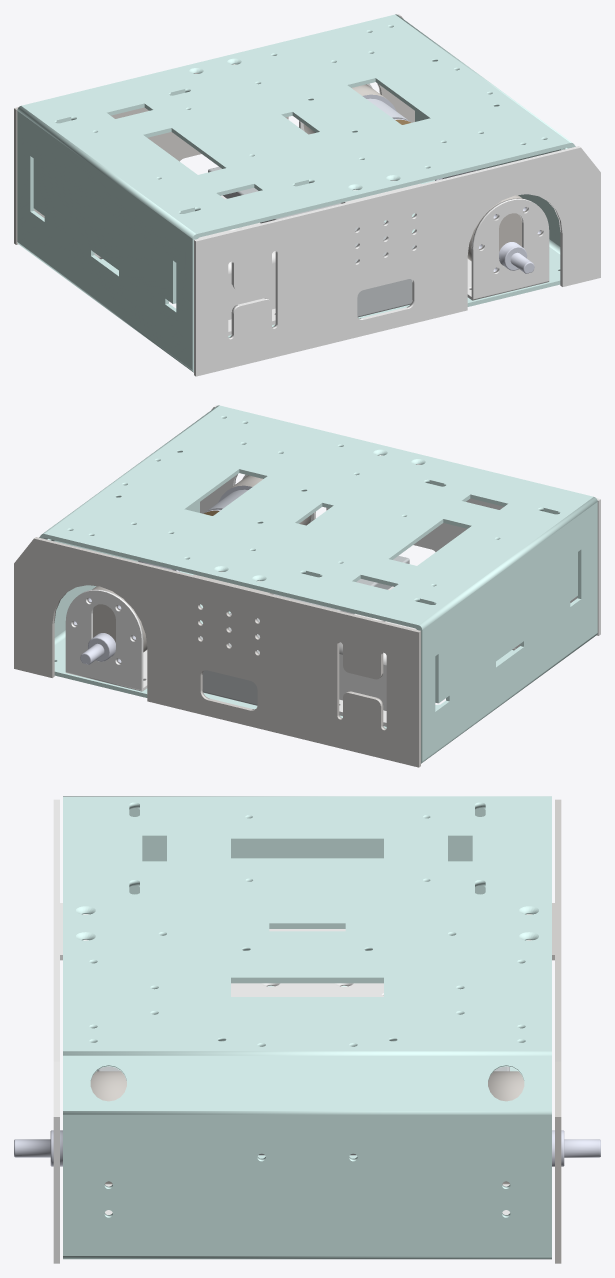
3 views of the same model, one above another, from view 1: azimuth 30°, elevation 25°; view 2: azimuth 150°, elevation 25°; view 3: azimuth 270°, elevation 25° (orthographic). The views are drawn at different scales.
Visible parts, largest first — view 1: stitch_result_stitchFBXASC032all_ncl1_5, stitch_result_stitchFBXASC032all_ncl1_3, stitch_result_stitchFBXASC032all_ncl1_9, stitch_result_stitchFBXASC032all_ncl1_4, stitch_result_stitchFBXASC032all, stitch_result_stitchFBXASC032all_ncl1_2, stitch_result_stitchFBXASC032all_ncl1_1, stitch_result_stitchFBXASC032all_ncl1_7; view 2: stitch_result_stitchFBXASC032all_ncl1_5, stitch_result_stitchFBXASC032all_ncl1_4, stitch_result_stitchFBXASC032all_ncl1_8, stitch_result_stitchFBXASC032all_ncl1_3, stitch_result_stitchFBXASC032all_ncl1_7, stitch_result_stitchFBXASC032all, stitch_result_stitchFBXASC032all_ncl1_1, stitch_result_stitchFBXASC032all_ncl1_2; view 3: stitch_result_stitchFBXASC032all_ncl1_5, stitch_result_stitchFBXASC032all_ncl1_3, stitch_result_stitchFBXASC032all_ncl1_4, stitch_result_stitchFBXASC032all_ncl1_1, stitch_result_stitchFBXASC032all_ncl1_2, stitch_result_stitchFBXASC032all_ncl1_7.
Boxes of the visible parts, box(x1,y1,x2,y2) form: stitch_result_stitchFBXASC032all_ncl1_5: box(17, 14, 575, 372); stitch_result_stitchFBXASC032all_ncl1_3: box(194, 146, 600, 376); stitch_result_stitchFBXASC032all_ncl1_9: box(467, 198, 549, 300); stitch_result_stitchFBXASC032all_ncl1_4: box(14, 14, 414, 244); stitch_result_stitchFBXASC032all: box(208, 167, 414, 317); stitch_result_stitchFBXASC032all_ncl1_2: box(435, 170, 541, 273); stitch_result_stitchFBXASC032all_ncl1_1: box(94, 195, 275, 335); stitch_result_stitchFBXASC032all_ncl1_7: box(303, 84, 411, 134); stitch_result_stitchFBXASC032all_ncl1_5: box(39, 405, 597, 763); stitch_result_stitchFBXASC032all_ncl1_4: box(14, 537, 420, 767); stitch_result_stitchFBXASC032all_ncl1_8: box(65, 589, 147, 691); stitch_result_stitchFBXASC032all_ncl1_3: box(200, 405, 600, 635); stitch_result_stitchFBXASC032all_ncl1_7: box(73, 561, 179, 664); stitch_result_stitchFBXASC032all: box(200, 555, 409, 705); stitch_result_stitchFBXASC032all_ncl1_1: box(339, 586, 520, 726); stitch_result_stitchFBXASC032all_ncl1_2: box(203, 475, 311, 525); stitch_result_stitchFBXASC032all_ncl1_5: box(63, 796, 551, 1259); stitch_result_stitchFBXASC032all_ncl1_3: box(53, 799, 88, 1263); stitch_result_stitchFBXASC032all_ncl1_4: box(526, 799, 561, 1263); stitch_result_stitchFBXASC032all_ncl1_1: box(231, 929, 383, 996); stitch_result_stitchFBXASC032all_ncl1_2: box(14, 1071, 126, 1184); stitch_result_stitchFBXASC032all_ncl1_7: box(488, 1071, 600, 1184).
Bounding box in the file's own units: 0.2132 × 0.192 × 0.07.
